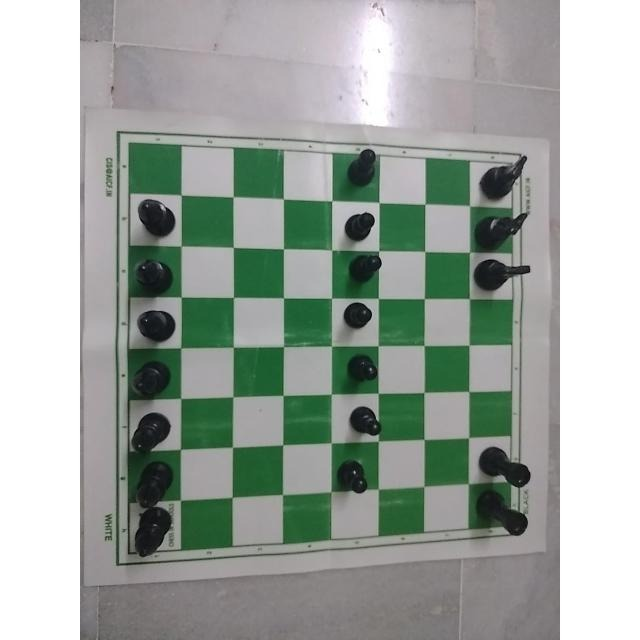black-bishop: (119, 403, 185, 459), (124, 348, 182, 400), (128, 508, 179, 565), (125, 457, 179, 509), (125, 250, 182, 294), (128, 299, 180, 344), (132, 195, 179, 239)
black-knight: (474, 148, 540, 204), (467, 253, 540, 303), (473, 206, 534, 252)
black-pawn: (345, 137, 385, 193), (338, 248, 385, 288), (341, 200, 383, 243), (346, 398, 392, 437), (333, 453, 370, 501), (342, 298, 385, 337), (342, 350, 381, 391)
black-rook: (471, 493, 536, 541), (481, 438, 537, 490)
